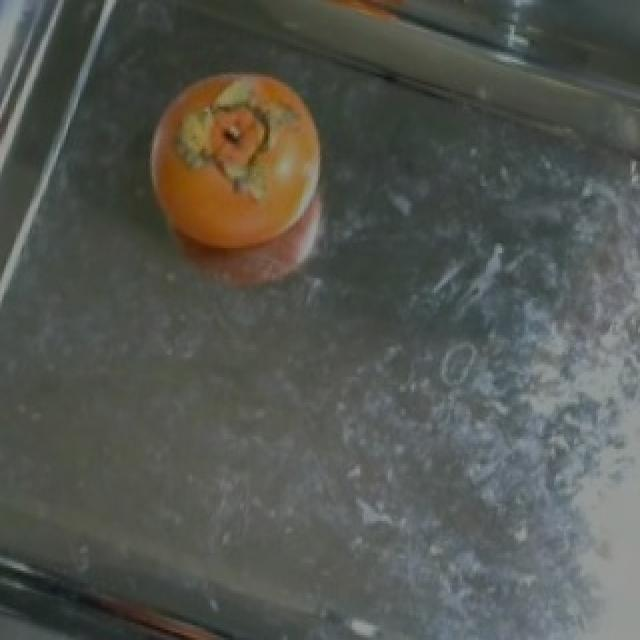Fruit: (118, 50, 350, 318)
